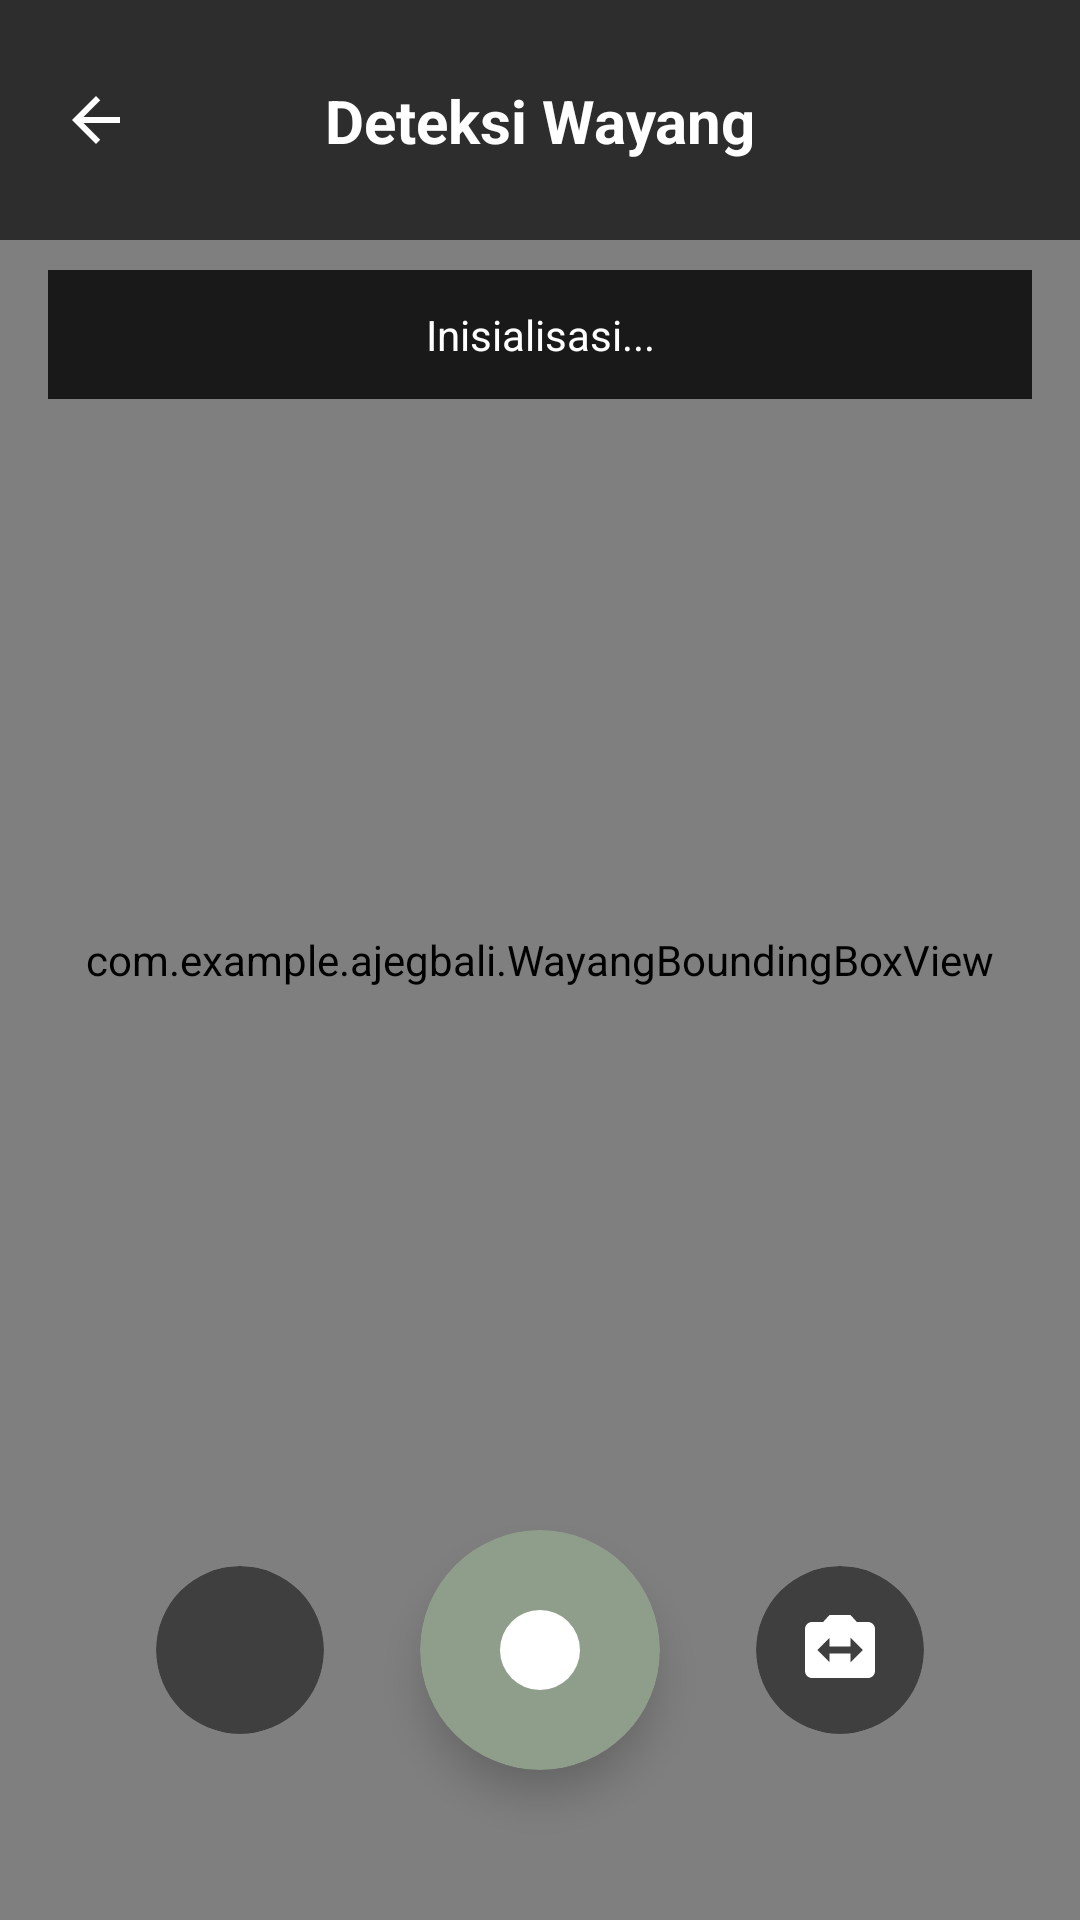

Point at icon controls on the screen. Image size 1080×1920, points as (x=x, y=y).
Back: (x=96, y=120)
switch camera: (x=840, y=1646)
